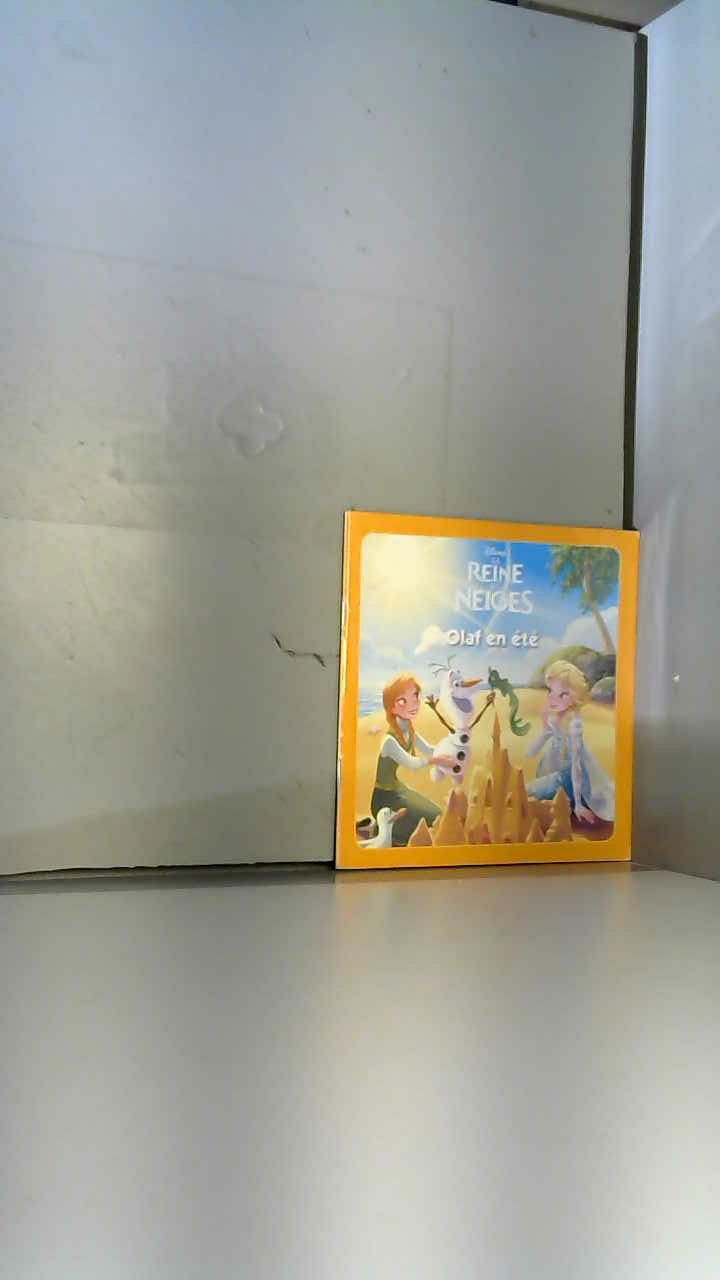book: (320, 494, 653, 897)
